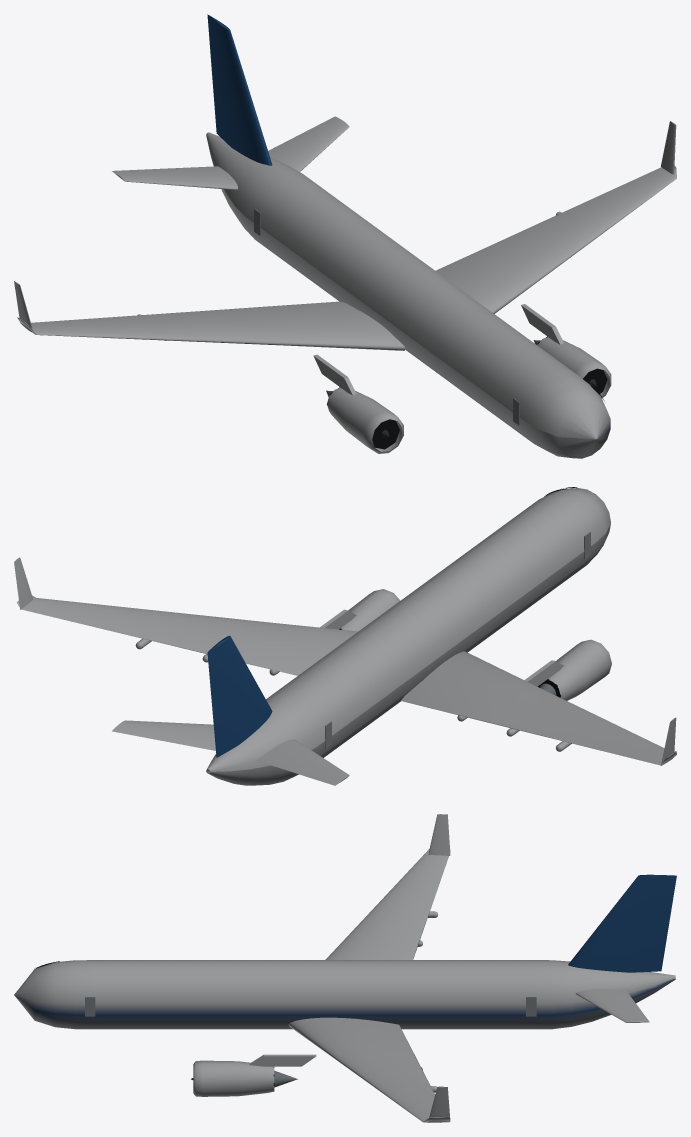
File: narrowbody.glb
The picture shows the model from 3 angles, top to bottom: view 1: azimuth 30°, elevation 25°; view 2: azimuth 150°, elevation 25°; view 3: azimuth 270°, elevation 25°; orthographic projection. The views are drawn at different scales.
Bounding box in the file's own units: 36.74 × 11.1 × 37.68.
